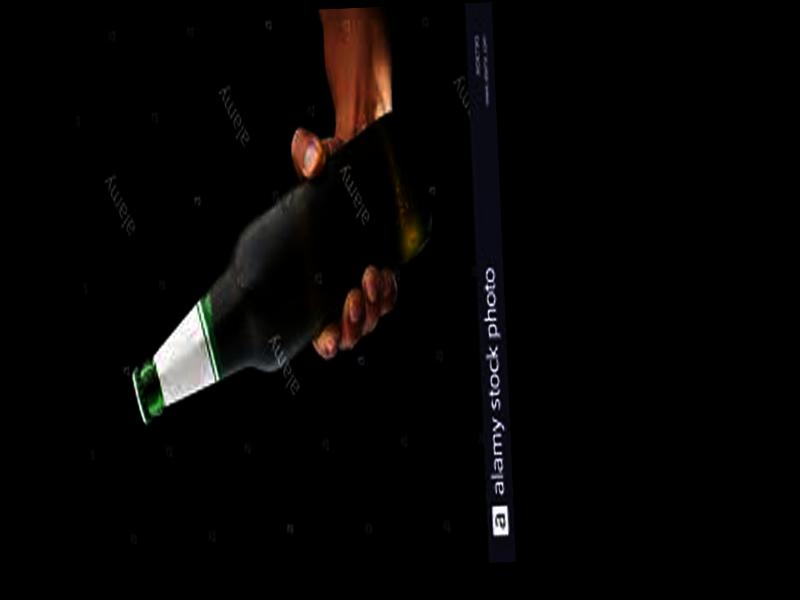Beer: (119, 111, 444, 428)
